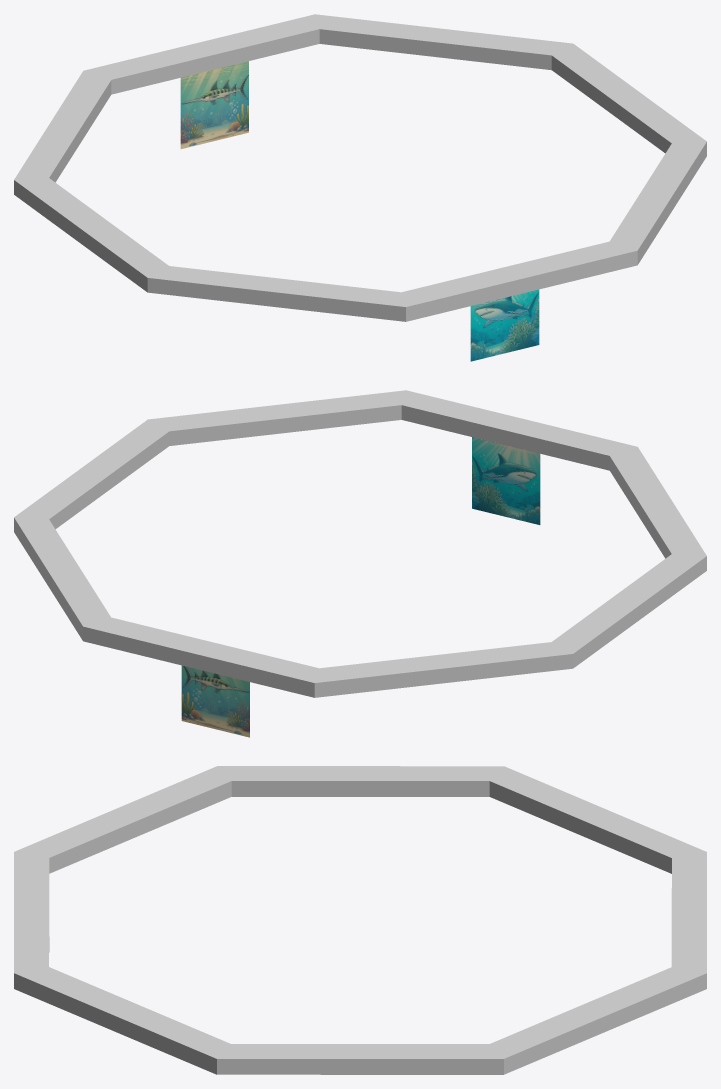
File: updated_oct_floatie.dae
3 renders of one model, top to bottom at view 1: azimuth 30°, elevation 25°; view 2: azimuth 150°, elevation 25°; view 3: azimuth 270°, elevation 25°, orthographic. The views are drawn at different scales.
Parts seen in each view (by area): view 1: Circle, Plane.001, Plane; view 2: Circle, Plane, Plane.001; view 3: Circle.
Part boxes in pixels (left/top/right/bottom): Circle: left=14, top=14, right=706, bottom=321; Plane.001: left=180, top=61, right=248, bottom=148; Plane: left=470, top=289, right=539, bottom=361; Circle: left=14, top=390, right=706, bottom=697; Plane: left=472, top=437, right=540, bottom=524; Plane.001: left=181, top=665, right=249, bottom=737; Circle: left=14, top=766, right=706, bottom=1074.
Size of the model in its own units: 2.49 by 2.49 by 0.368.
Materials: 2 (2 with a texture image).
